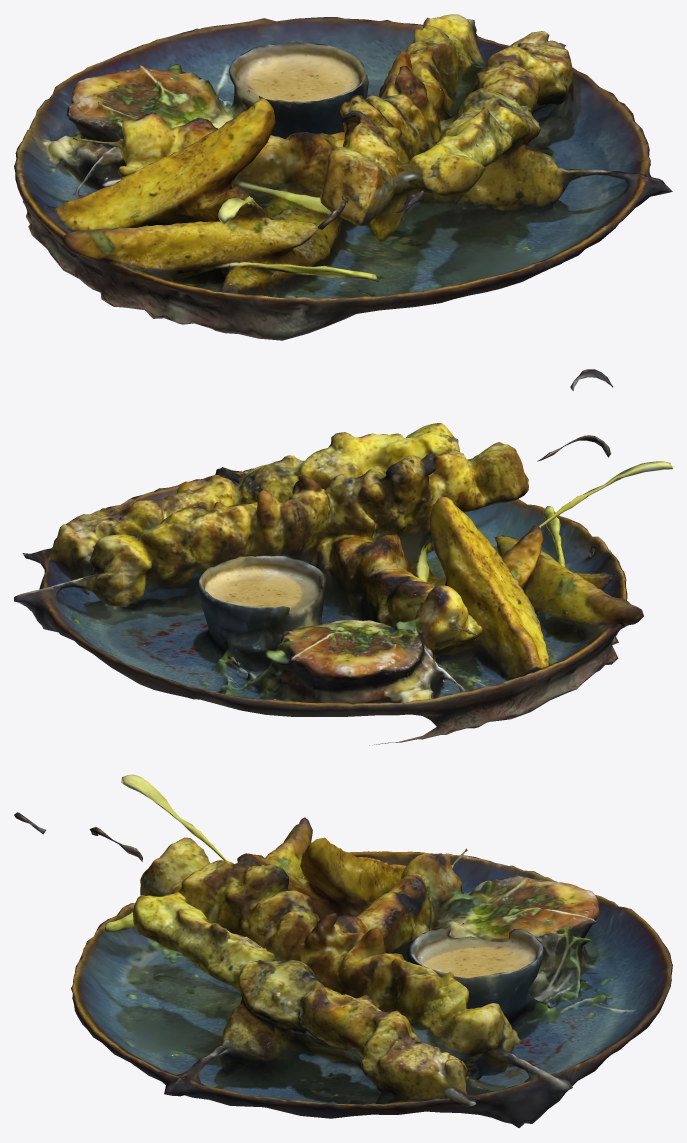
Rendered from brochettes-de-poulet.glb.
3 views of the same model, one above another, from view 1: azimuth 30°, elevation 25°; view 2: azimuth 150°, elevation 25°; view 3: azimuth 270°, elevation 25° (orthographic). The views are drawn at different scales.
Visible parts, largest first — view 1: /ObjectCapture/Geometry/Mesh; view 2: /ObjectCapture/Geometry/Mesh; view 3: /ObjectCapture/Geometry/Mesh.
Boxes of the visible parts, left/top/right/bottom form: /ObjectCapture/Geometry/Mesh: left=14, top=14, right=672, bottom=340; /ObjectCapture/Geometry/Mesh: left=14, top=369, right=672, bottom=745; /ObjectCapture/Geometry/Mesh: left=14, top=774, right=672, bottom=1127.
Size of the model in its own units: 0.2914 by 0.0832 by 0.297.
1 material, 1 textured.
